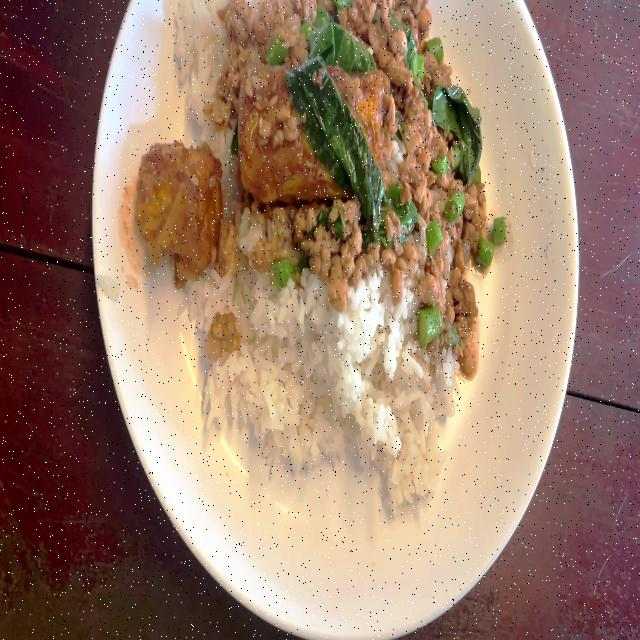fried_tofo: (239, 68, 392, 193), (144, 145, 212, 262)
minced_pork: (393, 69, 492, 366), (225, 0, 438, 79), (226, 206, 394, 274)
rice: (225, 293, 456, 494)
stir_fried_basil: (134, 0, 497, 524)
